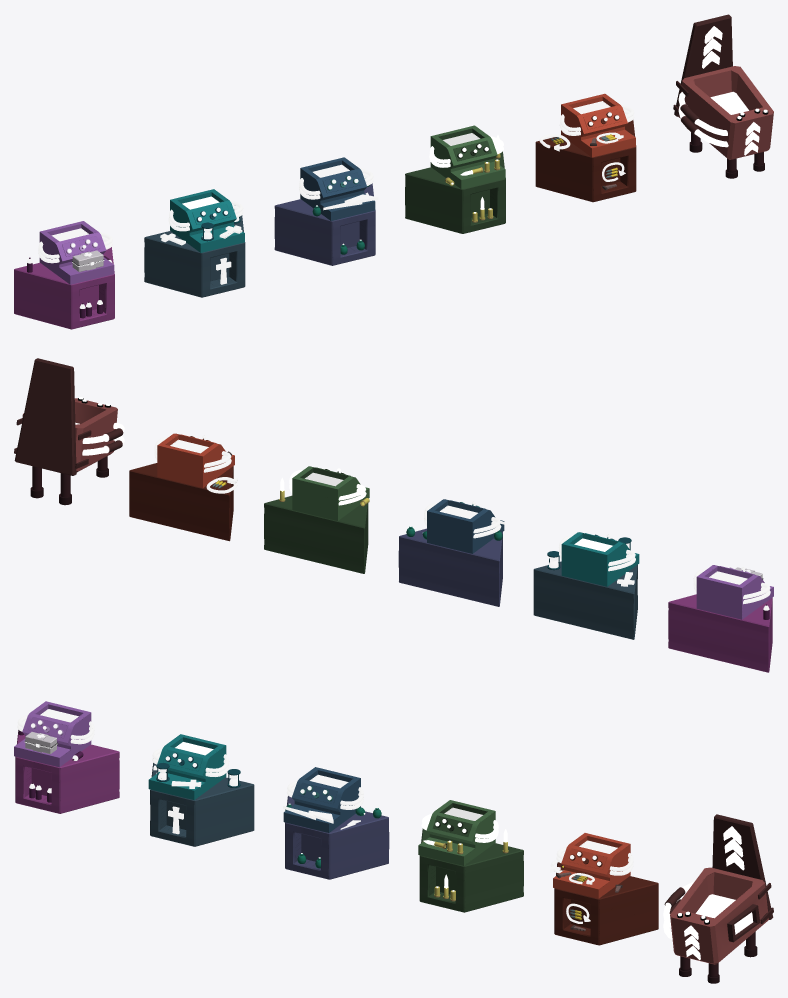
File: Perks.fbx
The picture shows the model from 3 angles, top to bottom: view 1: azimuth 30°, elevation 25°; view 2: azimuth 150°, elevation 25°; view 3: azimuth 330°, elevation 25°; orthographic projection. The views are drawn at different scales.
Parts seen in each view (by area): view 1: UpgradeArmas, PerkRecarga, PerkVelocidade, PerkVida, PerkReviver, PerkTiros; view 2: UpgradeArmas, PerkReviver, PerkTiros, PerkVida, PerkRecarga, PerkVelocidade; view 3: UpgradeArmas, PerkReviver, PerkTiros, PerkRecarga, PerkVelocidade, PerkVida.
Boxes of the visible parts, left/top/right/bottom form: UpgradeArmas: left=673, top=14, right=773, bottom=178; PerkRecarga: left=535, top=93, right=636, bottom=202; PerkVelocidade: left=274, top=157, right=378, bottom=265; PerkVida: left=14, top=221, right=114, bottom=329; PerkReviver: left=144, top=189, right=245, bottom=297; PerkTiros: left=405, top=125, right=505, bottom=233; UpgradeArmas: left=14, top=358, right=124, bottom=505; PerkReviver: left=533, top=532, right=639, bottom=639; PerkTiros: left=264, top=466, right=369, bottom=573; PerkVida: left=668, top=565, right=773, bottom=672; PerkRecarga: left=129, top=433, right=237, bottom=541; PerkVelocidade: left=398, top=499, right=504, bottom=606; UpgradeArmas: left=663, top=814, right=773, bottom=983; PerkReviver: left=148, top=734, right=254, bottom=846; PerkTiros: left=418, top=800, right=523, bottom=912; PerkRecarga: left=550, top=833, right=658, bottom=945; PerkVelocidade: left=283, top=767, right=389, bottom=879; PerkVida: left=14, top=701, right=119, bottom=813.
Bounding box in the file's own units: 1674 × 285 × 209.
